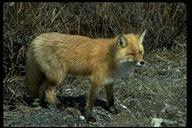fox: (25, 25, 149, 120)
grass: (8, 7, 170, 23)
